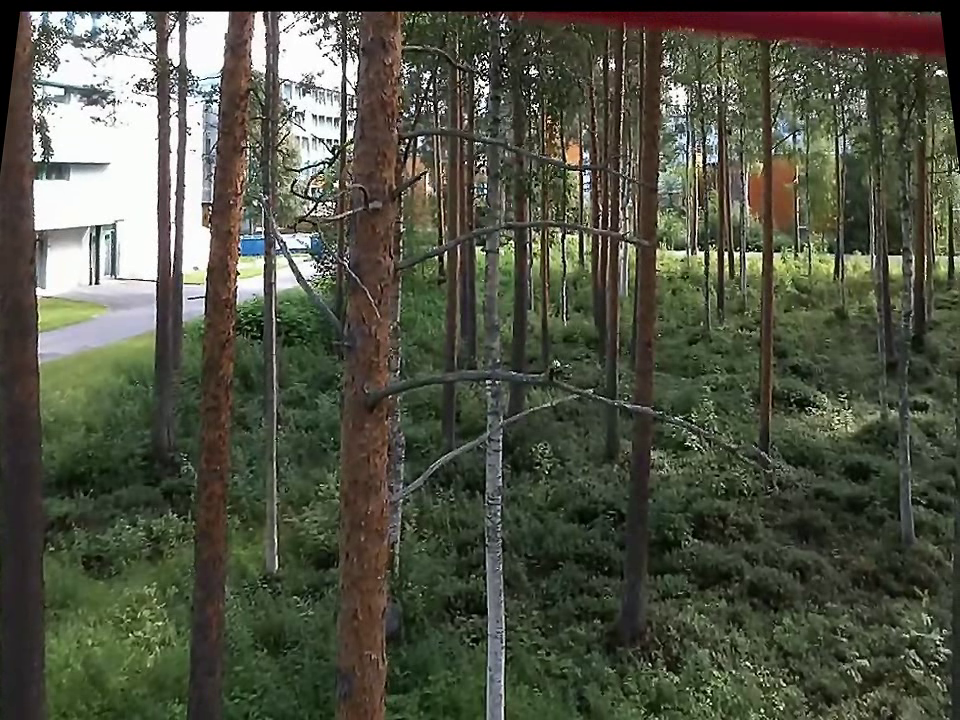branch: (401, 352, 766, 476), (407, 116, 668, 199), (401, 205, 651, 274), (401, 31, 491, 83)
trunk: (165, 12, 268, 713), (590, 36, 676, 648), (331, 8, 398, 709), (1, 9, 53, 716), (469, 31, 514, 709), (878, 119, 929, 550), (145, 30, 187, 474), (749, 59, 785, 480), (899, 102, 939, 352)
